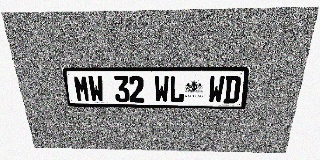2: (129, 75, 144, 103)
3: (113, 75, 130, 102)
D: (223, 75, 241, 103)
L: (169, 75, 184, 103)
M: (73, 75, 91, 102)
W: (208, 75, 225, 103), (88, 75, 105, 102), (154, 75, 169, 103)
